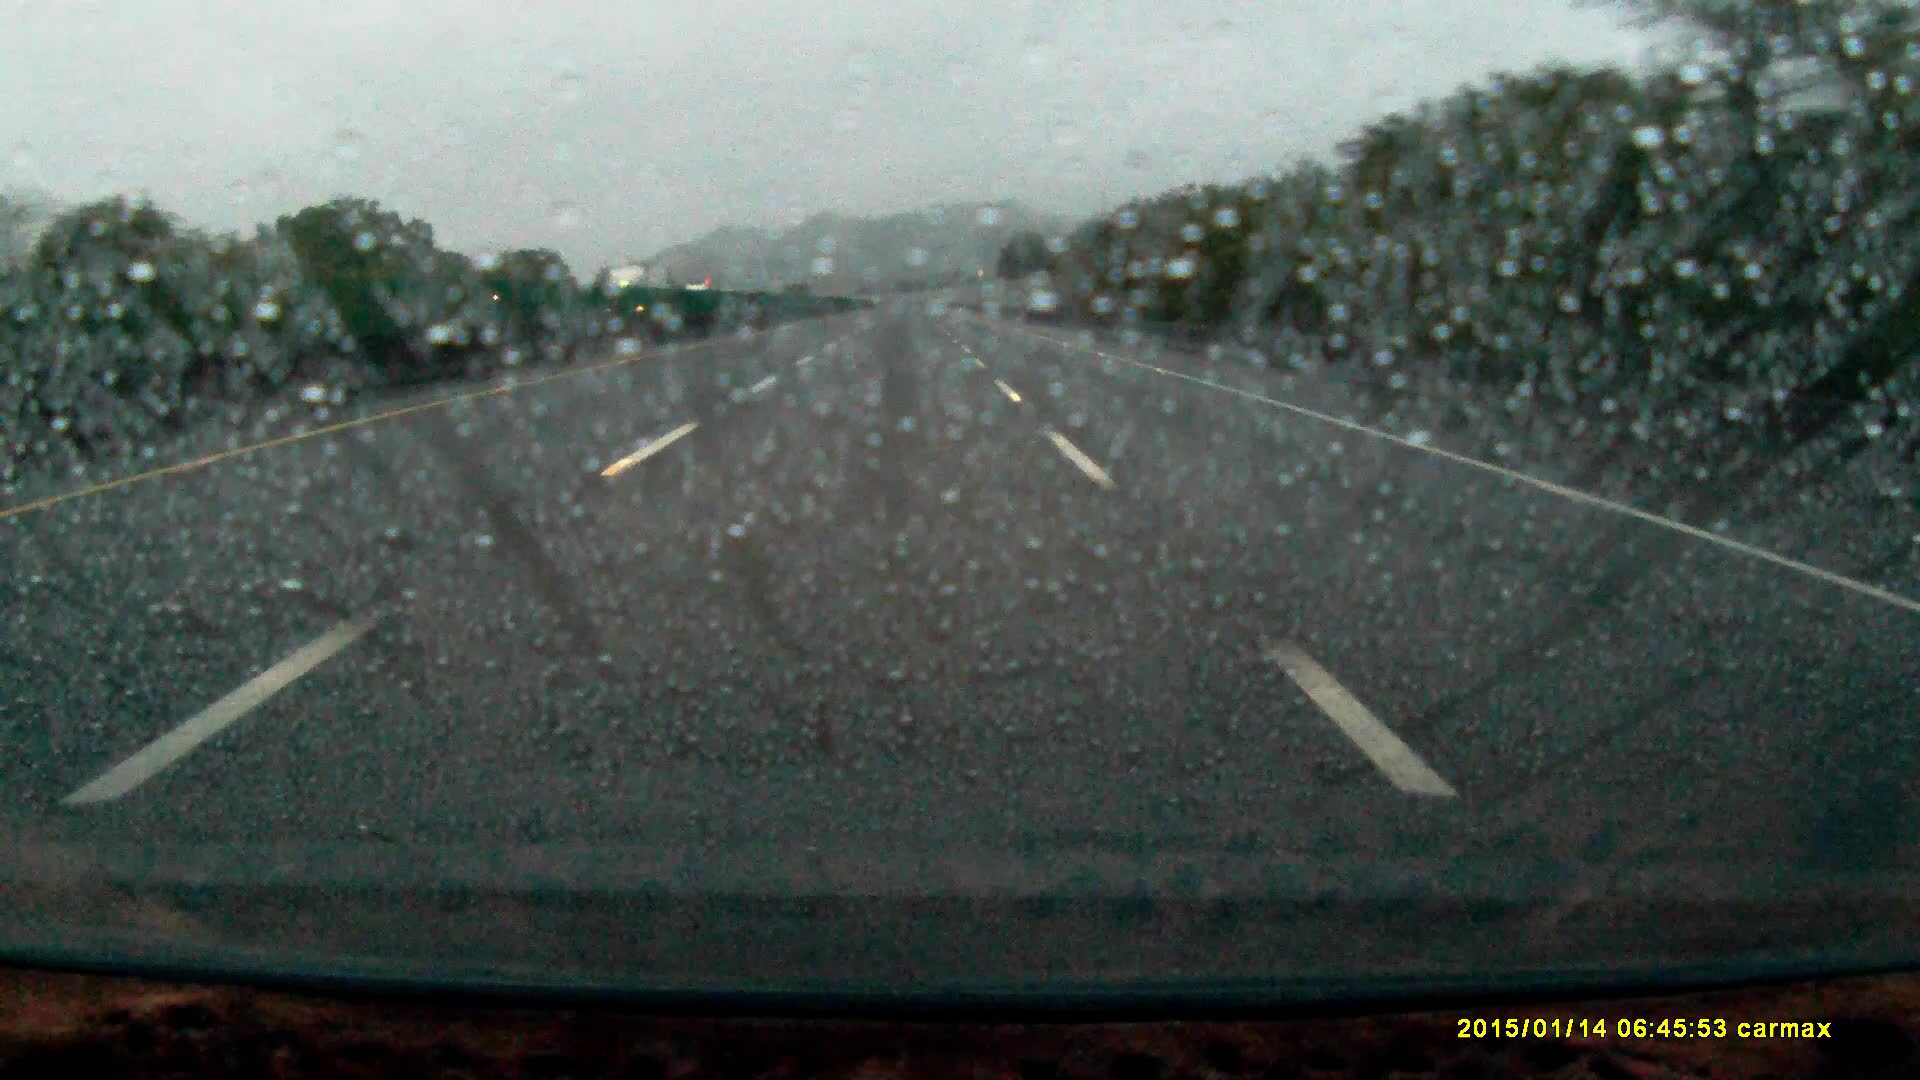vehicle: (684, 276, 717, 301)
